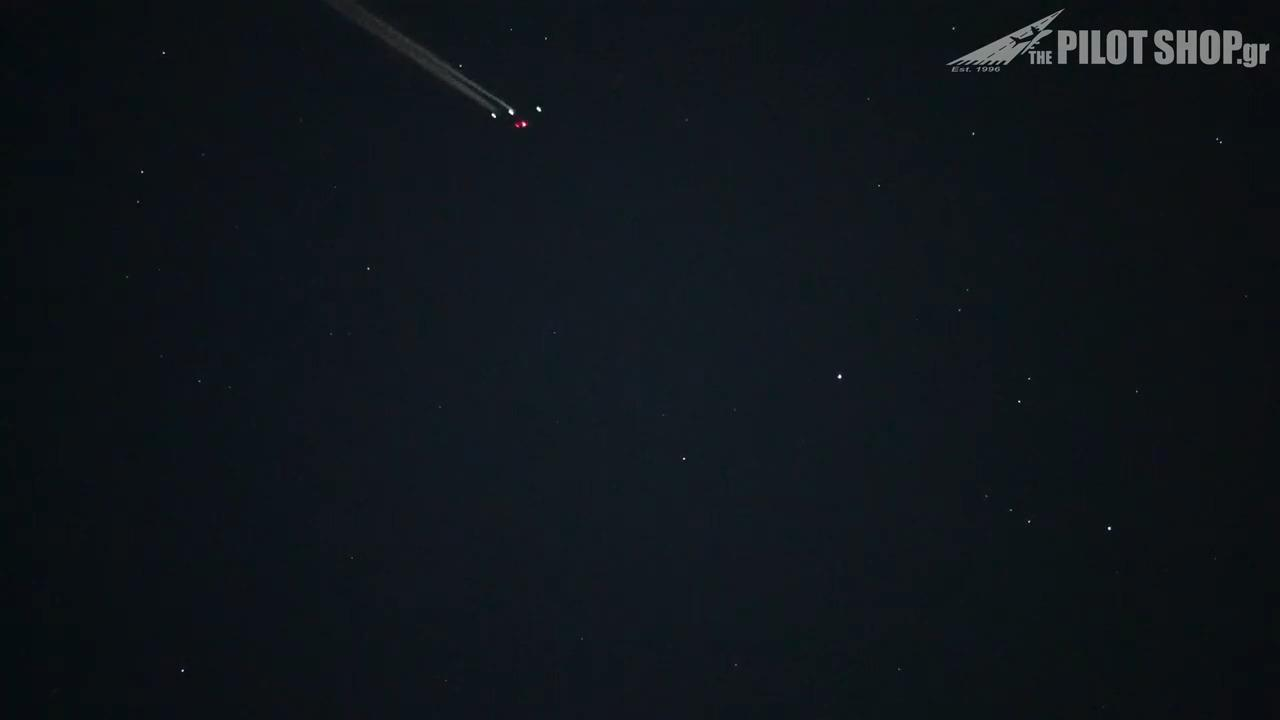Plane: (274, 1, 570, 138)
